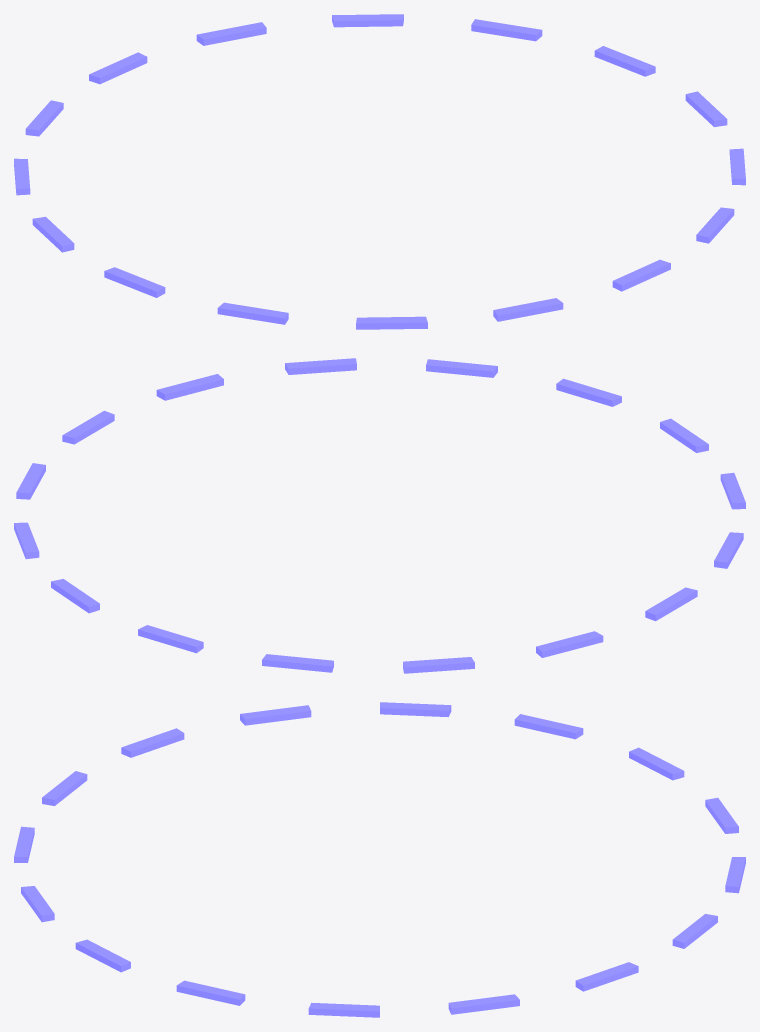
File: ring5.fbx
The picture shows the model from 3 angles, top to bottom: view 1: azimuth 30°, elevation 25°; view 2: azimuth 150°, elevation 25°; view 3: azimuth 270°, elevation 25°; orthographic projection.
Visible parts, largest first — view 1: Circle.005; view 2: Circle.005; view 3: Circle.005.
Boxes of the visible parts, bbox=[...] form: Circle.005: bbox=[14, 14, 745, 329]; Circle.005: bbox=[14, 358, 745, 673]; Circle.005: bbox=[14, 702, 745, 1017].
Bounding box in the file's own units: 185 × 1.75 × 185.
